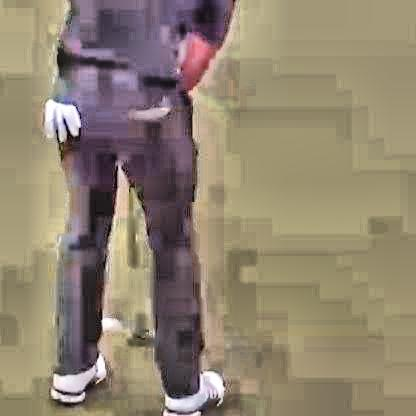golfball: (98, 313, 113, 328)
